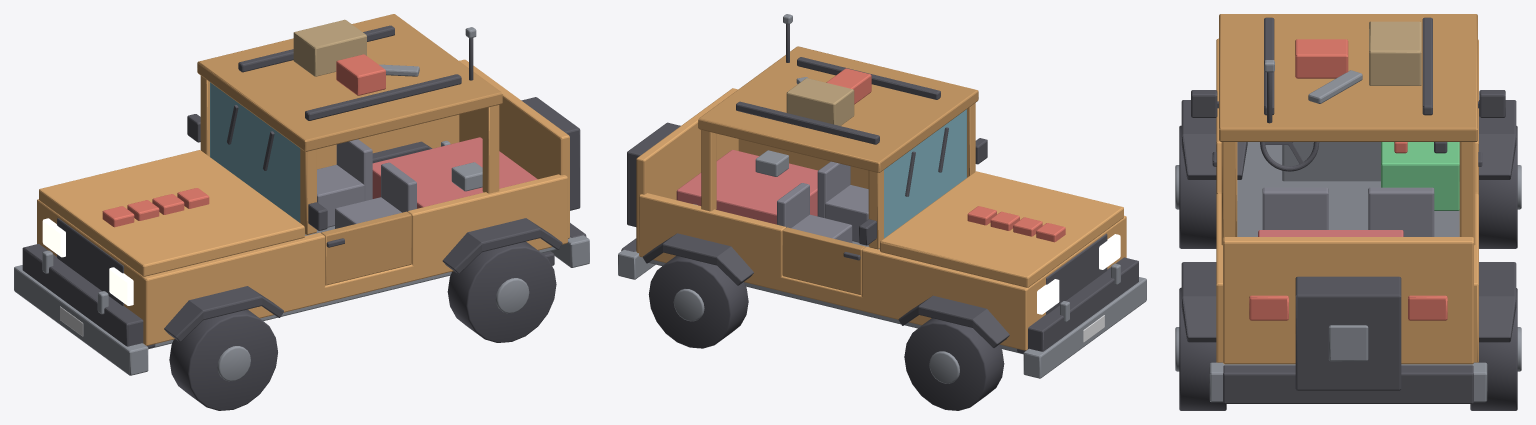
The model's file is автомобиль.glb.
3 renders of one model, left to right at view 1: azimuth 30°, elevation 25°; view 2: azimuth 150°, elevation 25°; view 3: azimuth 270°, elevation 25°, orthographic. The views are drawn at different scales.
Parts seen in each view (by area): view 1: PartCabin_Mesh, PartWheels_Mesh, PartCabin_Mesh.001, автомобиль, PartTank_Mesh, PartEngine_Mesh, PartCabin_Mesh.002; view 2: PartCabin_Mesh, PartWheels_Mesh, PartCabin_Mesh.002, автомобиль, PartTank_Mesh, PartEngine_Mesh, PartCabin_Mesh.001; view 3: PartCabin_Mesh, PartWheels_Mesh, автомобиль, PartBattery_Mesh, PartEngine_Mesh, PartCabin_Mesh.001, PartTank_Mesh, PartCabin_Mesh.002, Тор.
Part boxes in pixels (box(x1,y1,x2,y2)): PartCabin_Mesh: box(14, 14, 589, 375); PartWheels_Mesh: box(164, 141, 562, 410); PartCabin_Mesh.001: box(141, 174, 567, 345); автомобиль: box(42, 27, 586, 349); PartTank_Mesh: box(372, 137, 537, 208); PartEngine_Mesh: box(57, 188, 209, 305); PartCabin_Mesh.002: box(37, 114, 459, 244); PartCabin_Mesh: box(618, 46, 1146, 378); PartWheels_Mesh: box(643, 233, 1009, 410); PartCabin_Mesh.002: box(639, 193, 1030, 350); автомобиль: box(621, 14, 1120, 354); PartTank_Mesh: box(676, 150, 817, 224); PartEngine_Mesh: box(967, 206, 1107, 314); PartCabin_Mesh.001: box(738, 139, 1126, 257); PartCabin_Mesh: box(1191, 14, 1505, 402); PartWheels_Mesh: box(1175, 100, 1521, 410); автомобиль: box(1223, 60, 1473, 403); PartBattery_Mesh: box(1381, 142, 1459, 210); PartEngine_Mesh: box(1282, 142, 1380, 181); PartCabin_Mesh.001: box(1216, 38, 1222, 362); PartTank_Mesh: box(1258, 230, 1403, 236); PartCabin_Mesh.002: box(1474, 39, 1478, 362); Тор: box(1260, 142, 1319, 171).
Bounding box in the file's own units: 5.1 × 2.86 × 2.62.
